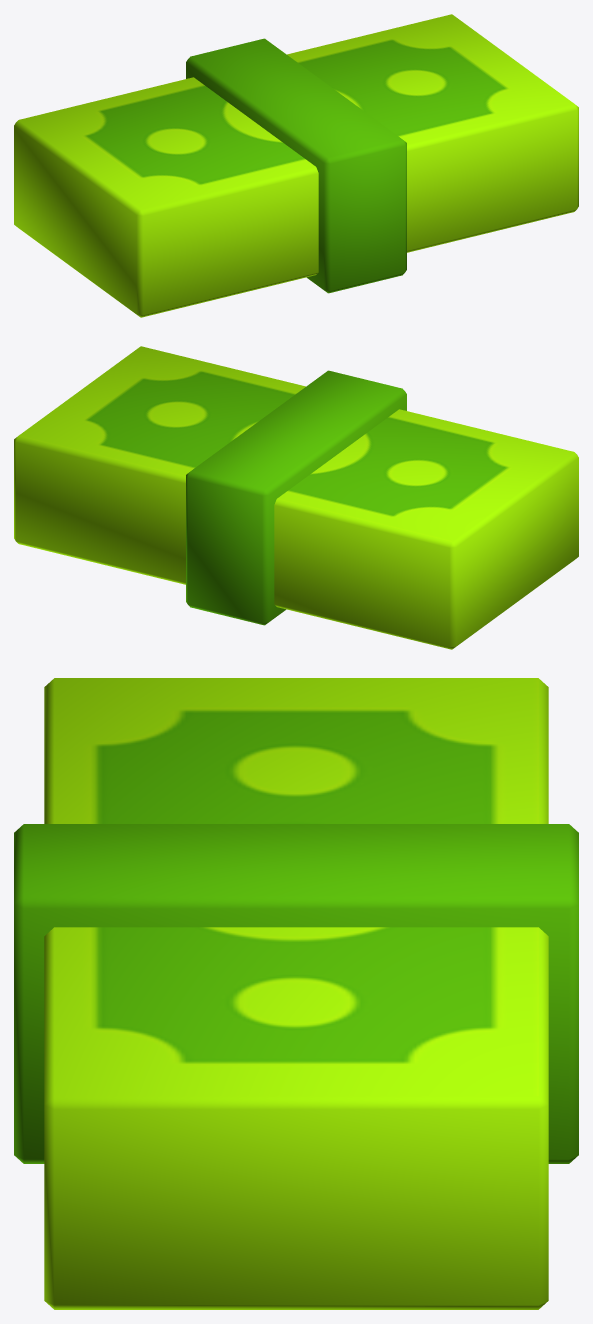
Rendered from Collectable_Money_01.fbx.
3 views of the same model, one above another, from view 1: azimuth 30°, elevation 25°; view 2: azimuth 150°, elevation 25°; view 3: azimuth 270°, elevation 25° (orthographic). The views are drawn at different scales.
Parts seen in each view (by area): view 1: Collectable_Money_01; view 2: Collectable_Money_01; view 3: Collectable_Money_01.
Part boxes in pixels (<box>): Collectable_Money_01: <box>14,14,578,317</box>; Collectable_Money_01: <box>14,346,578,649</box>; Collectable_Money_01: <box>14,678,578,1309</box>.
Bounding box in the file's own units: 75.73 × 22.24 × 42.39.
